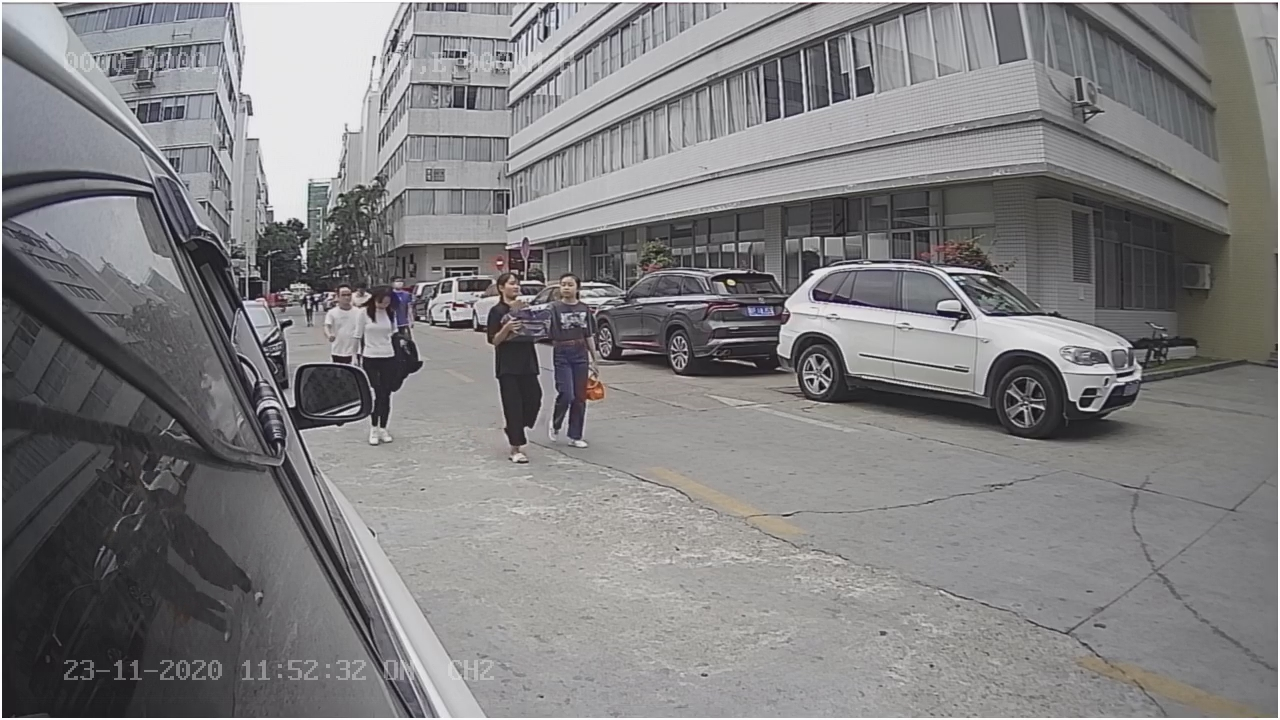person: (484, 267, 542, 464), (545, 271, 596, 443)
